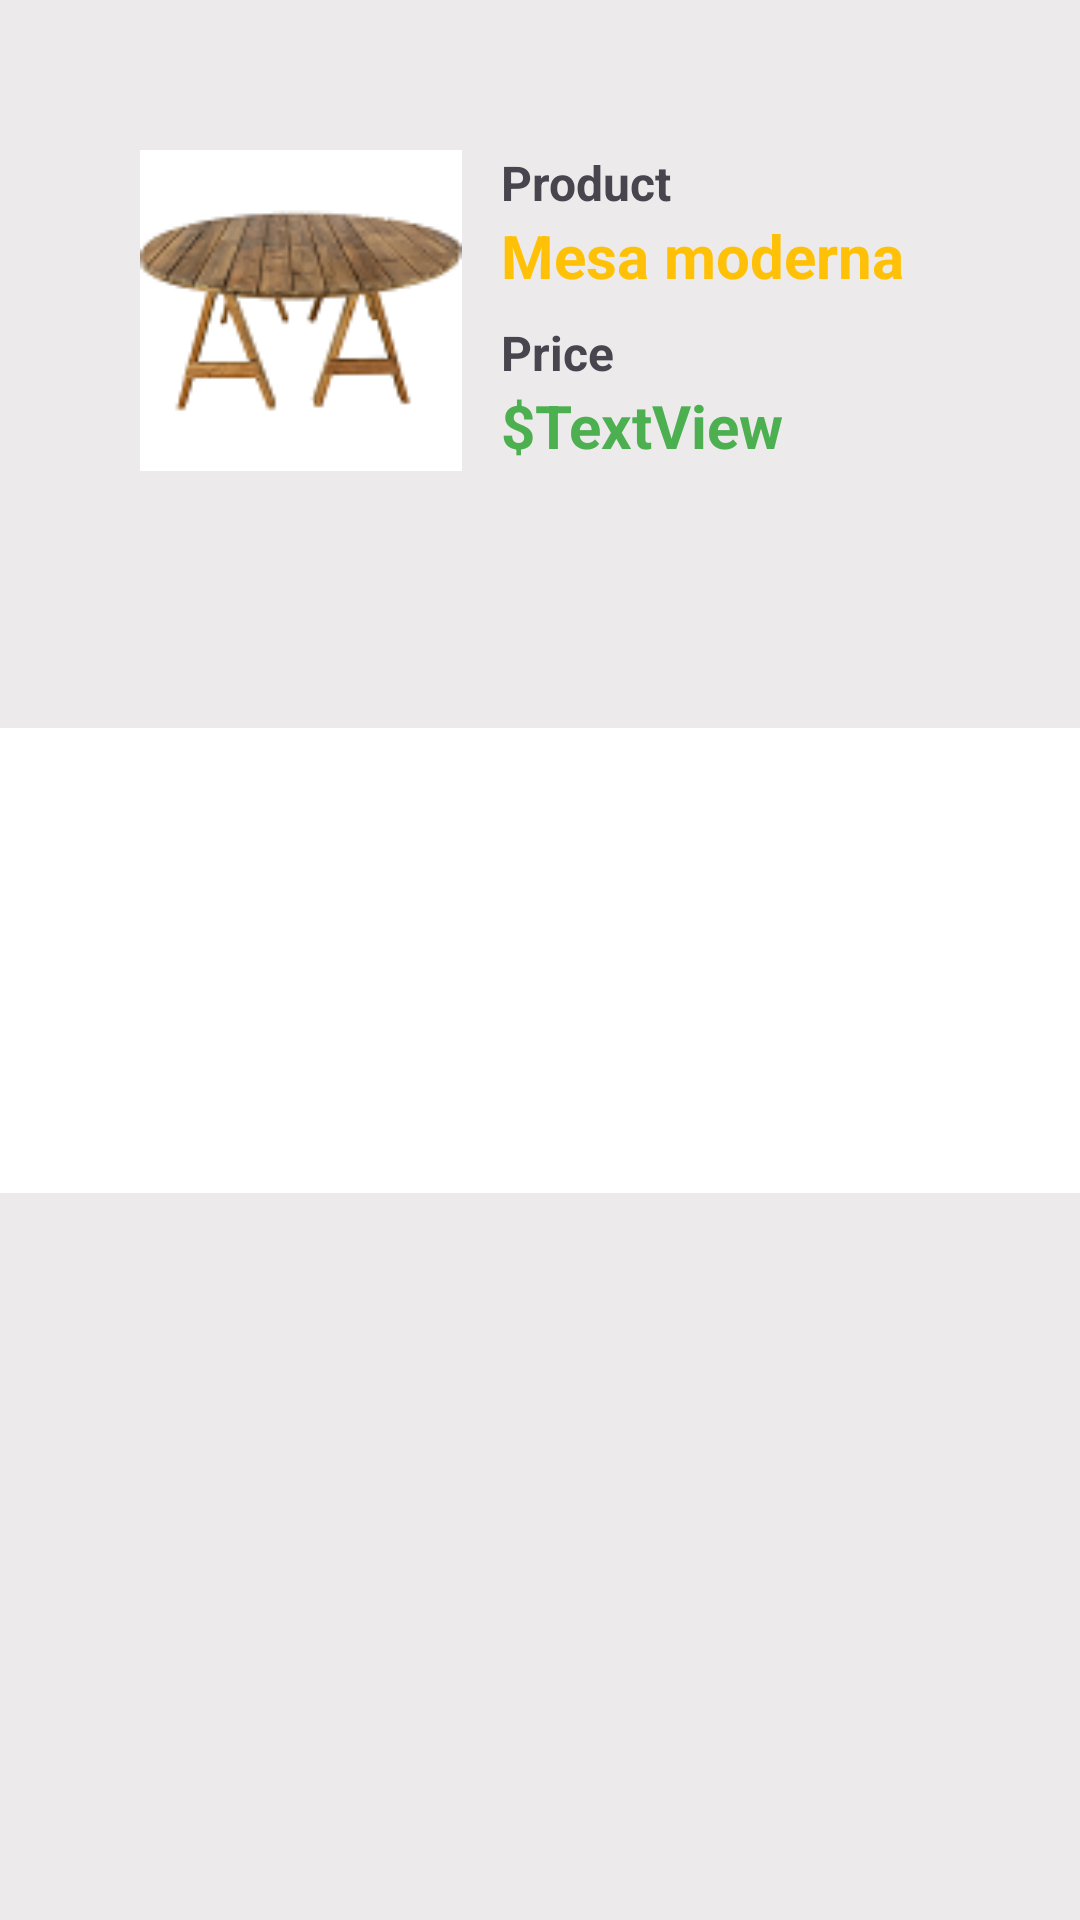

Screen size 1080px x 1920px. Icon name, then its box in pixels as (x1, y1, x2, y2):
mesa rustica: (140, 150, 462, 471)
